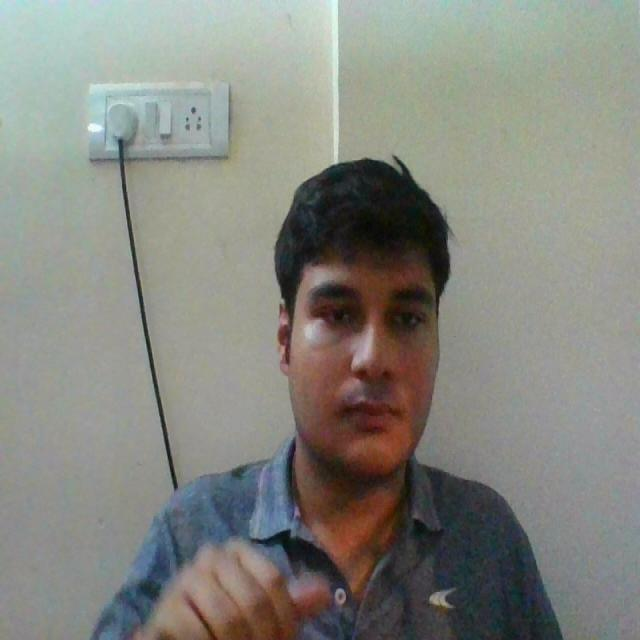Yes: (87, 506, 397, 640)
